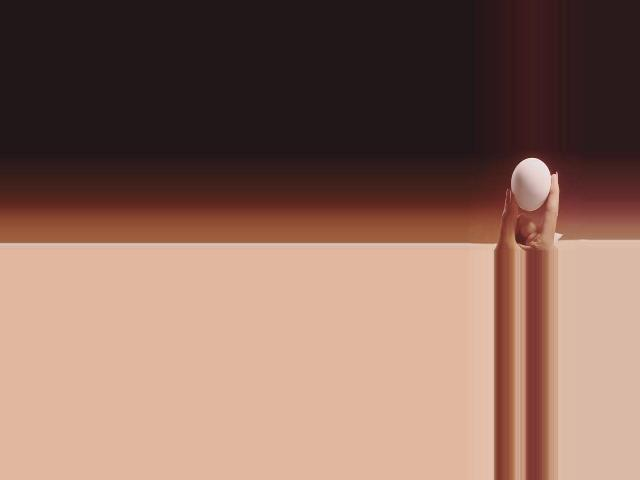egg: (510, 157, 551, 211)
